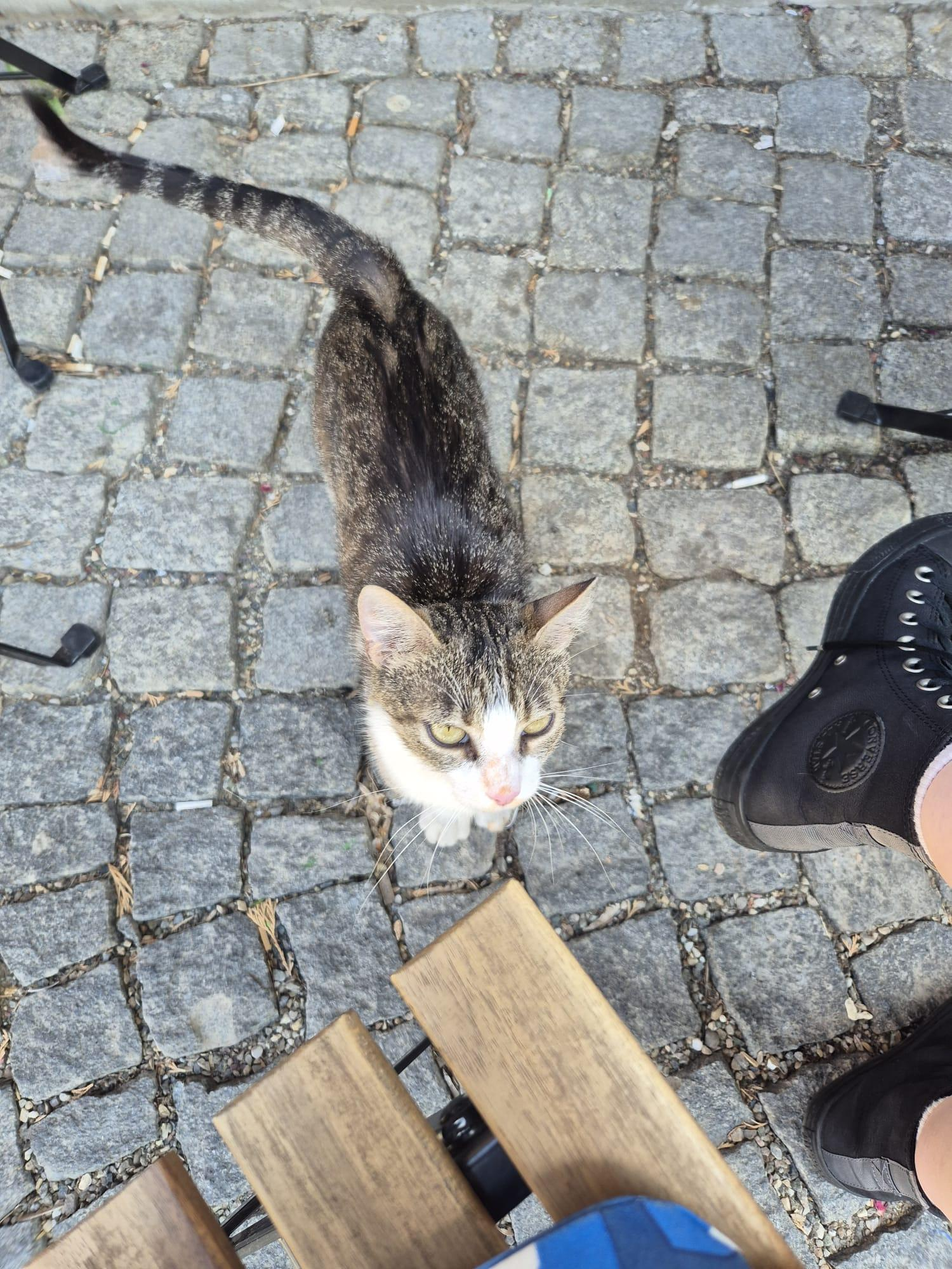macka: (16, 87, 599, 846)
